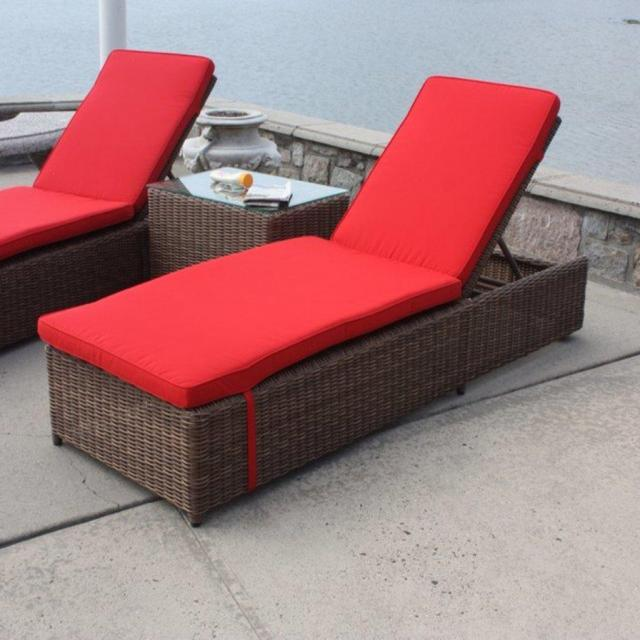Table: (150, 165, 347, 273)
